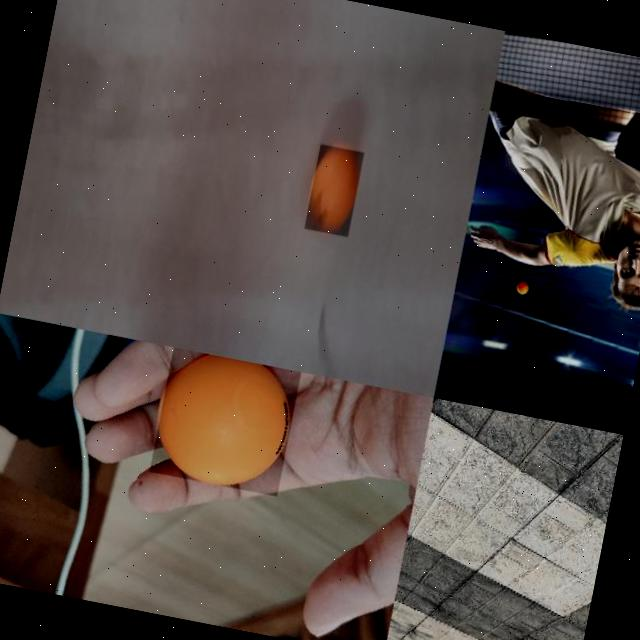ping-pong-ball: (147, 347, 300, 496), (302, 142, 364, 236), (514, 278, 530, 296)
